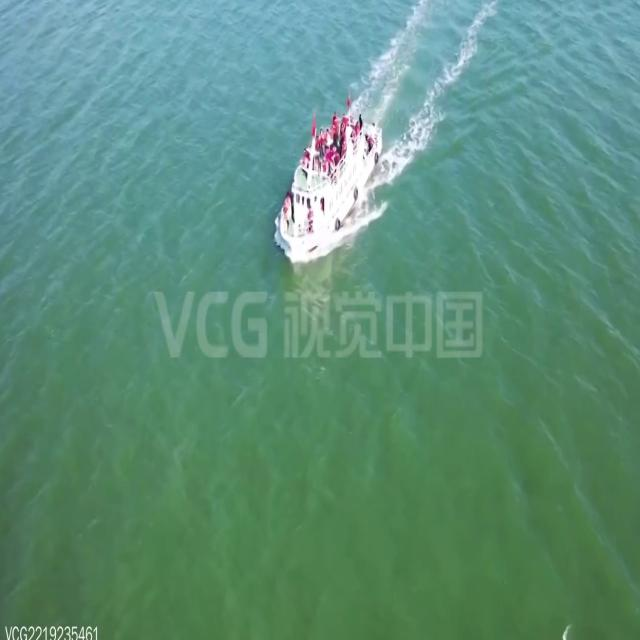houseboat: (273, 102, 383, 260)
